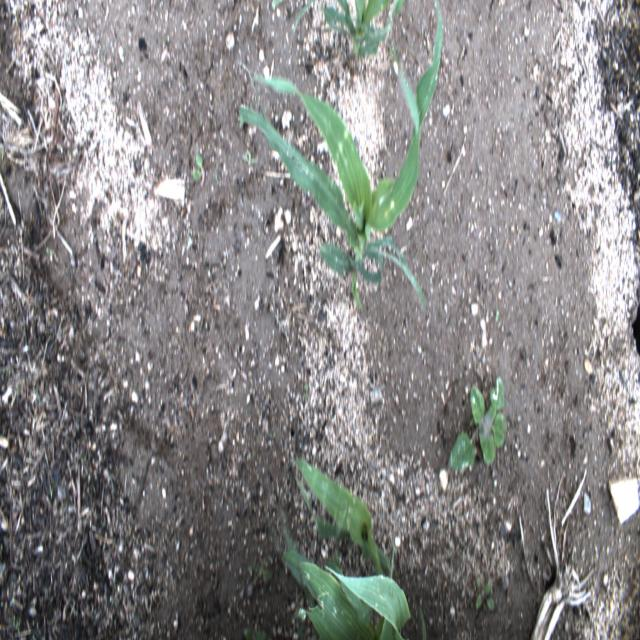crop: (239, 2, 443, 311), (282, 523, 410, 639), (295, 457, 395, 578), (322, 0, 405, 59), (291, 1, 316, 49), (419, 606, 425, 638)
weed: (449, 382, 508, 473), (476, 576, 495, 613), (250, 560, 273, 583), (242, 624, 268, 639), (243, 148, 259, 169), (192, 152, 202, 182), (270, 0, 284, 8), (46, 246, 54, 258)
